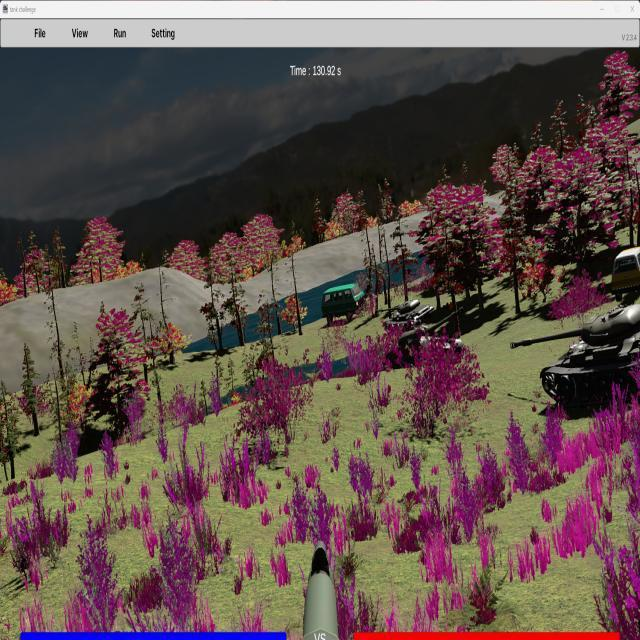Tank: (511, 300, 640, 408), (375, 298, 436, 332)
car: (321, 283, 366, 323), (611, 246, 640, 306)
